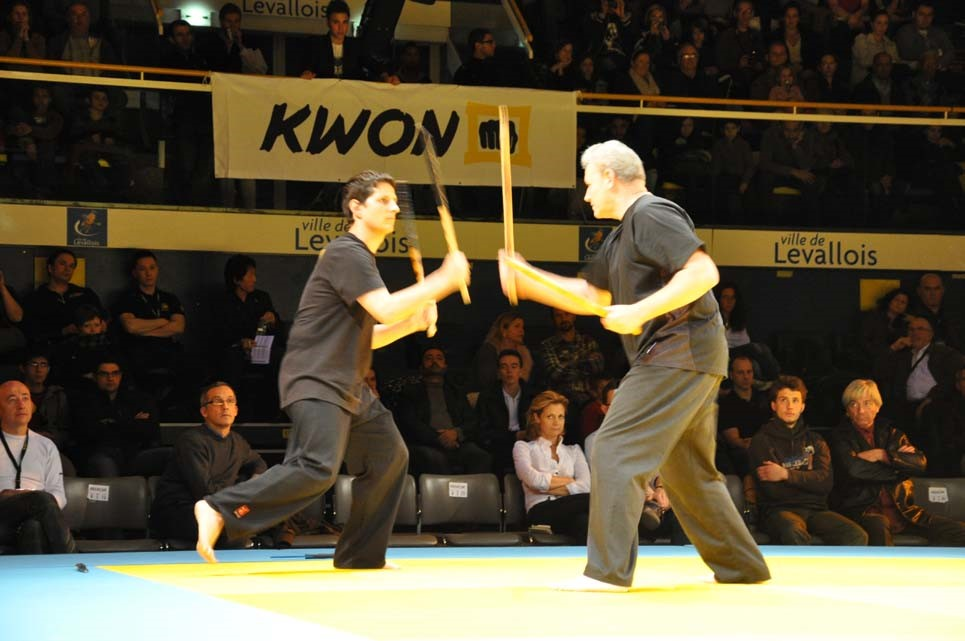baston_e: (416, 131, 473, 298), (395, 194, 439, 332), (495, 111, 519, 303)
baston_v: (411, 121, 431, 136), (506, 293, 520, 308), (424, 325, 438, 340), (461, 295, 473, 309), (496, 101, 509, 113)
